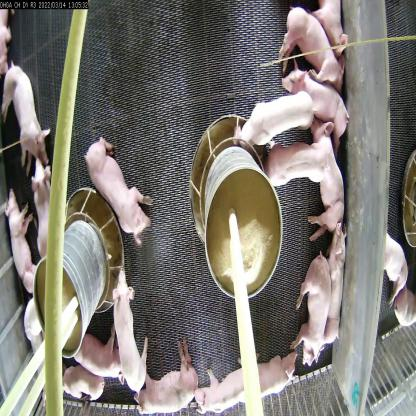Pig: (83, 122, 158, 241), (190, 339, 305, 409), (265, 58, 361, 138), (271, 6, 352, 90), (5, 55, 58, 175), (110, 258, 152, 404), (305, 110, 351, 242), (294, 244, 334, 374), (234, 78, 318, 137), (66, 321, 138, 381), (3, 180, 41, 291), (138, 356, 201, 416), (28, 152, 58, 262), (327, 217, 350, 349), (260, 147, 330, 189), (130, 356, 202, 366), (172, 360, 172, 378)
